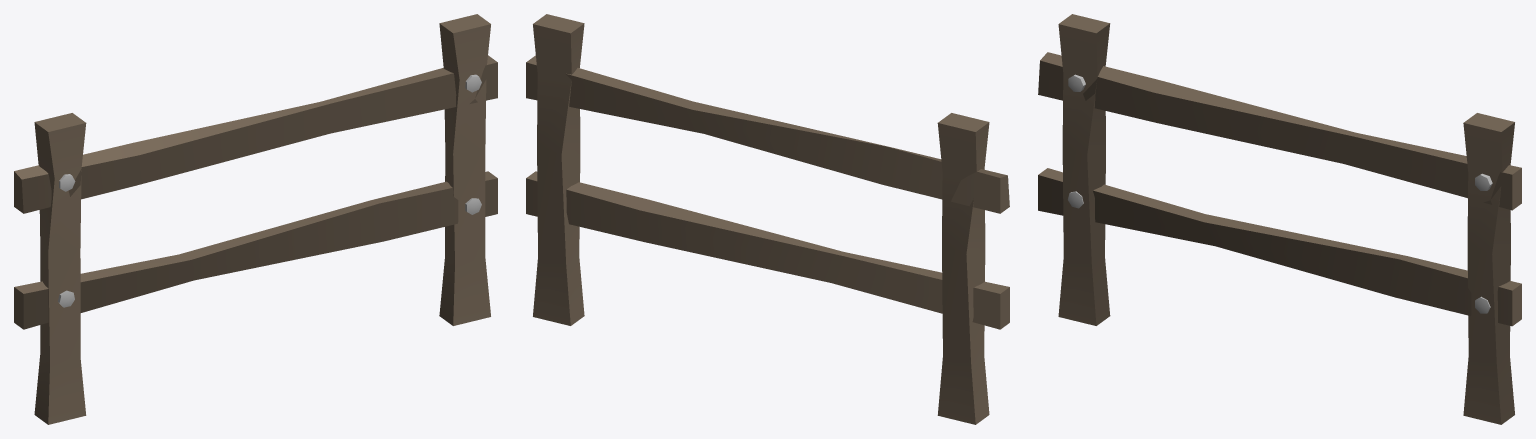
Rendered from hek.fbx.
3 renders of one model, left to right at view 1: azimuth 30°, elevation 25°; view 2: azimuth 150°, elevation 25°; view 3: azimuth 330°, elevation 25°, orthographic.
Visible parts, largest first — view 1: pCube3, pCube4, pCube1, pCube2; view 2: pCube4, pCube3, pCube2, pCube1; view 3: pCube3, pCube4, pCube1, pCube2.
Boxes of the visible parts, x1=… form: pCube3: x1=14, y1=55, x2=497, y2=213; pCube4: x1=14, y1=171, x2=497, y2=329; pCube1: x1=34, y1=113, x2=86, y2=424; pCube2: x1=439, y1=14, x2=490, y2=325; pCube4: x1=526, y1=171, x2=1009, y2=329; pCube3: x1=526, y1=55, x2=1009, y2=213; pCube2: x1=533, y1=14, x2=584, y2=325; pCube1: x1=937, y1=113, x2=989, y2=424; pCube3: x1=1038, y1=52, x2=1521, y2=210; pCube4: x1=1038, y1=168, x2=1521, y2=326; pCube1: x1=1058, y1=14, x2=1110, y2=325; pCube2: x1=1463, y1=113, x2=1514, y2=424.
Size of the model in its own units: 4.01 by 2.36 by 0.2575.
